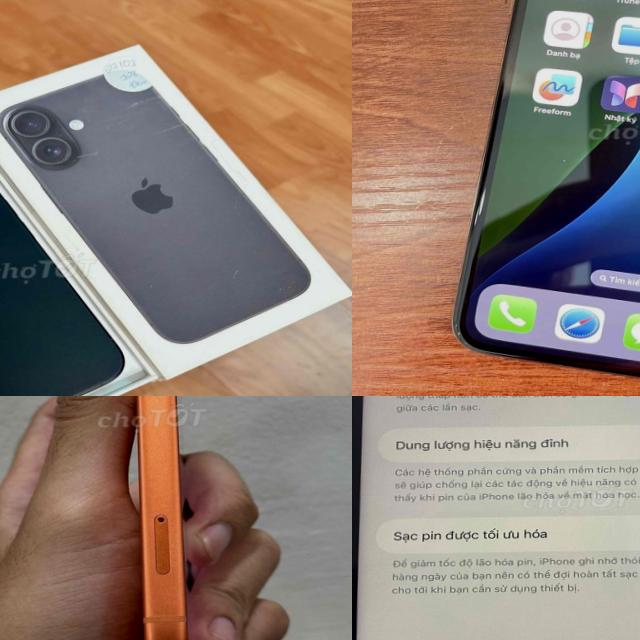gen_14: (352, 396, 640, 640)
gen_16: (0, 196, 123, 396)
gen_17: (94, 396, 244, 640)
gen_x_xs: (455, 0, 640, 376)
